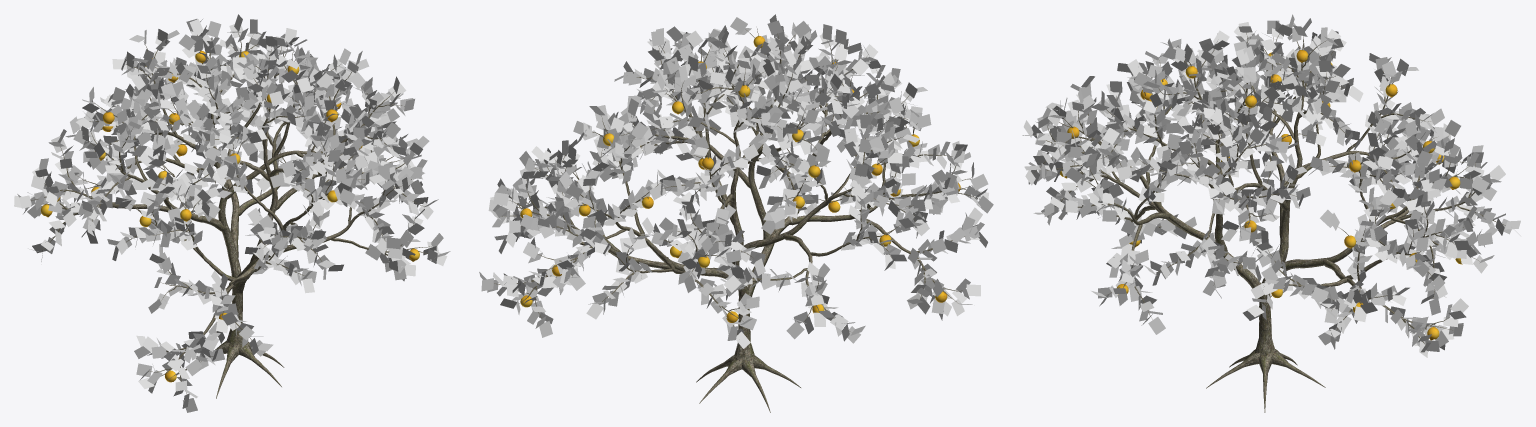
The model's file is LemonTreeFruit.fbx.
3 renders of one model, left to right at view 1: azimuth 30°, elevation 25°; view 2: azimuth 150°, elevation 25°; view 3: azimuth 270°, elevation 25°, orthographic. The views are drawn at different scales.
Parts seen in each view (by area): view 1: foliage, structure, fruit; view 2: foliage, structure, fruit; view 3: foliage, structure, fruit.
Part boxes in pixels (left/top/right/bottom): foliage: left=14, top=14, right=450, bottom=412; structure: left=31, top=30, right=431, bottom=398; fruit: left=40, top=50, right=419, bottom=382; foliage: left=479, top=14, right=993, bottom=351; structure: left=494, top=28, right=979, bottom=412; fruit: left=520, top=36, right=960, bottom=322; foliage: left=1022, top=14, right=1520, bottom=357; structure: left=1033, top=33, right=1505, bottom=412; fruit: left=1059, top=50, right=1462, bottom=340.
Size of the model in its own units: 565 by 481 by 605.
